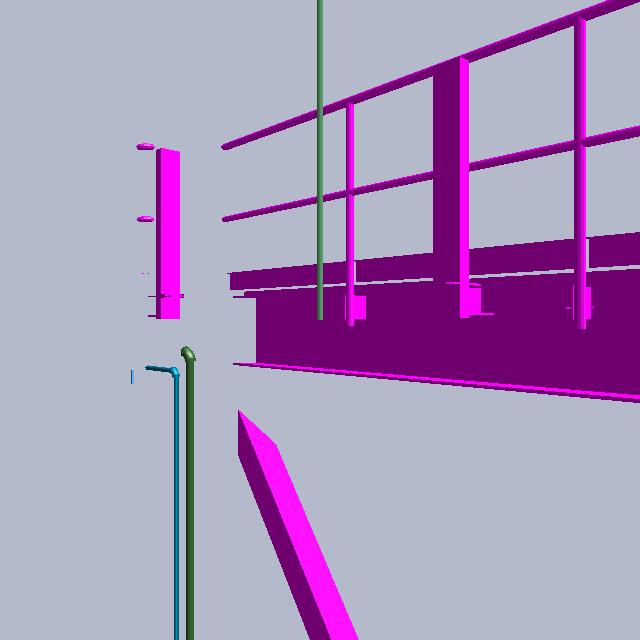Poste: (425, 36, 509, 327), (312, 1, 325, 323)
